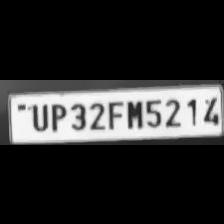1: (182, 94, 198, 126)
2: (162, 95, 182, 127), (87, 98, 105, 130)
3: (68, 99, 86, 130)
4: (200, 94, 222, 124)
5: (142, 96, 162, 127)
F: (104, 98, 122, 128)
M: (123, 96, 143, 128)
P: (47, 100, 66, 130)
U: (28, 100, 48, 130)
